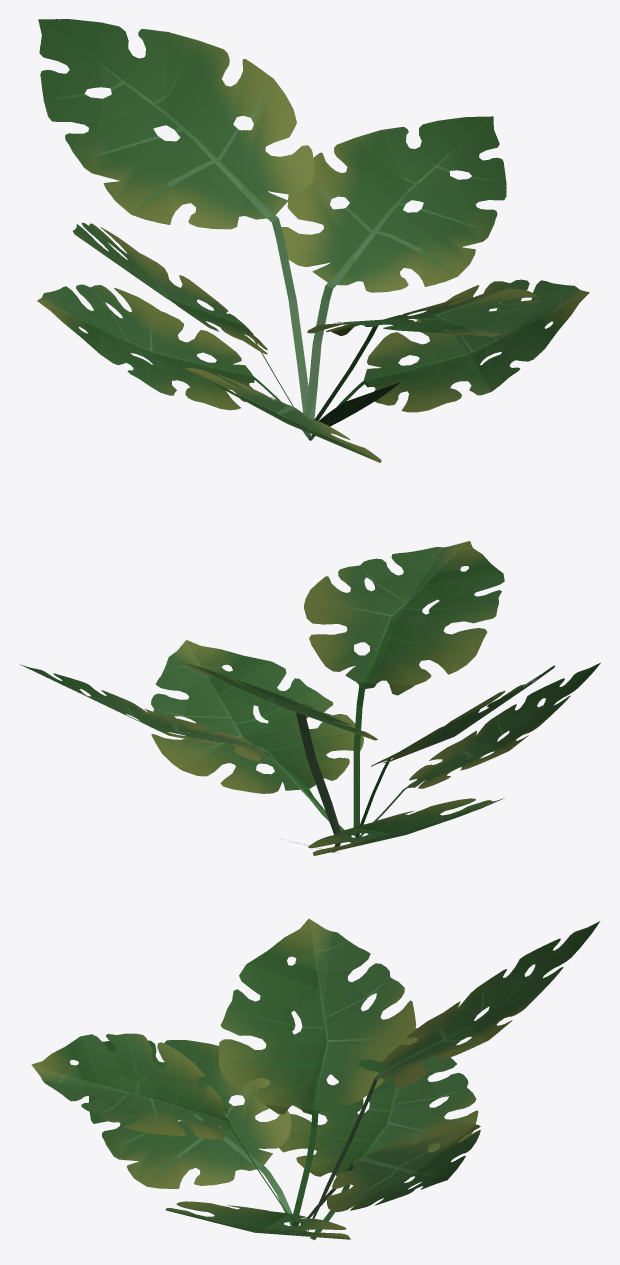
Rendered from Plant002.fbx.
The picture shows the model from 3 angles, top to bottom: view 1: azimuth 30°, elevation 25°; view 2: azimuth 150°, elevation 25°; view 3: azimuth 270°, elevation 25°; orthographic projection. The views are drawn at different scales.
Parts seen in each view (by area): view 1: Plant; view 2: Plant; view 3: Plant.
Boxes of the visible parts, x1,y1,x2,y2 form: Plant: [37, 19, 589, 462]; Plant: [20, 541, 600, 855]; Plant: [31, 918, 600, 1240].
Bounding box in the file's own units: 106 × 65.35 × 122.
